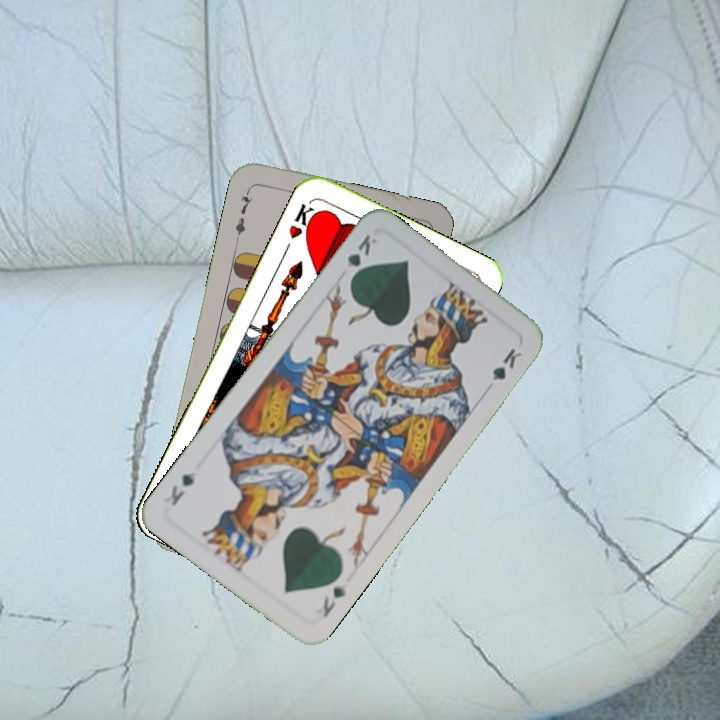E7: (231, 185, 256, 243)
GK: (342, 230, 380, 285), (318, 582, 349, 621)
HK: (284, 197, 322, 241)
